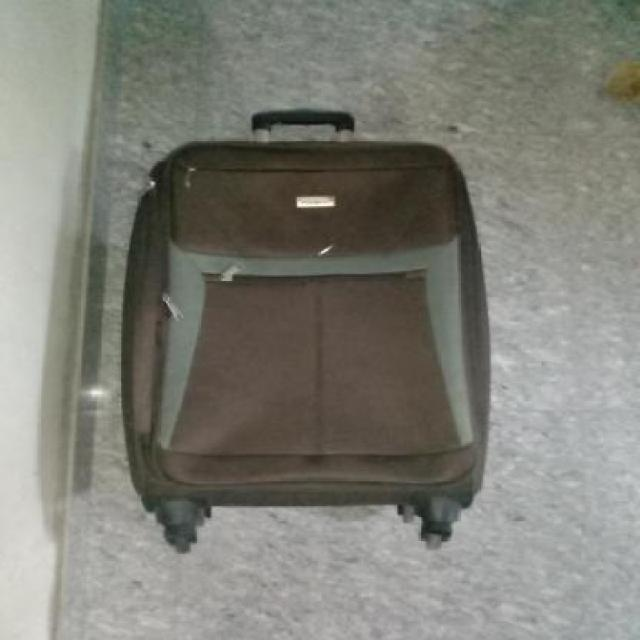backpack: (118, 108, 496, 557)
